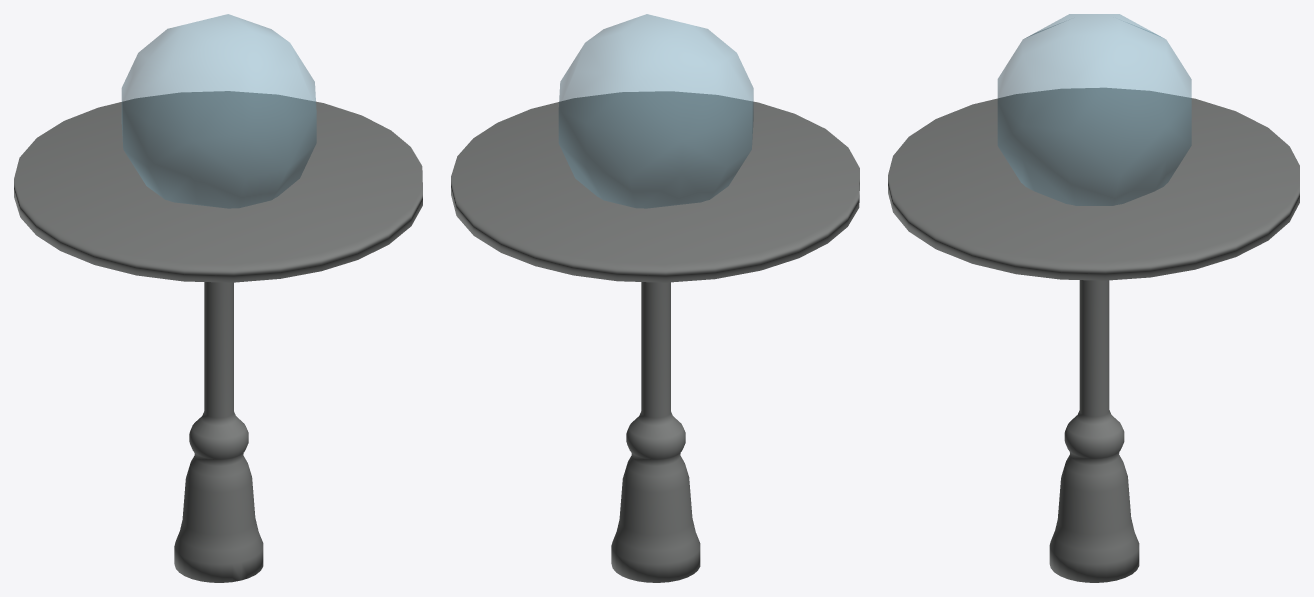
Rendered from Crystal Balls.glb.
3 views of the same model, side by side, from view 1: azimuth 30°, elevation 25°; view 2: azimuth 150°, elevation 25°; view 3: azimuth 270°, elevation 25° (orthographic).
Parts seen in each view (by area): view 1: Cylindrical Lathe, Sphere; view 2: Cylindrical Lathe, Sphere; view 3: Cylindrical Lathe, Sphere.
Boxes of the visible parts, x1,y1,x2,y2 form: Cylindrical Lathe: [14, 91, 422, 582]; Sphere: [121, 14, 316, 208]; Cylindrical Lathe: [451, 91, 859, 582]; Sphere: [558, 14, 753, 208]; Cylindrical Lathe: [888, 87, 1299, 582]; Sphere: [997, 14, 1191, 205].
Size of the model in its own units: 0.4993 by 0.7207 by 0.4986.
